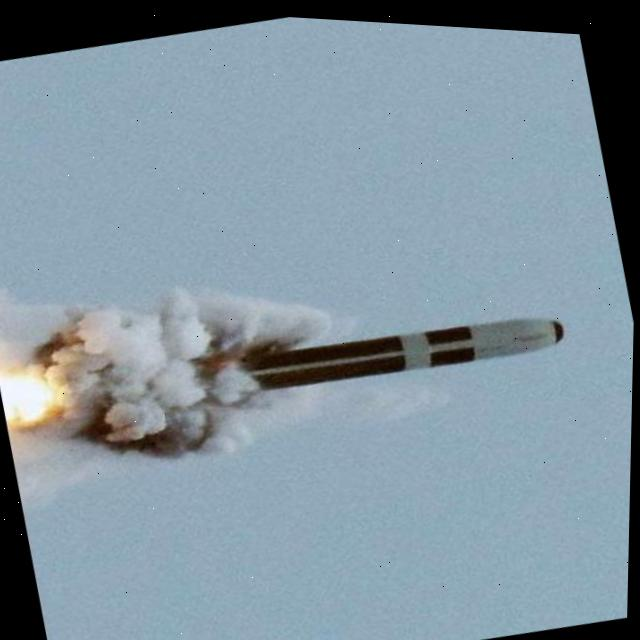missile: (207, 264, 583, 430)
